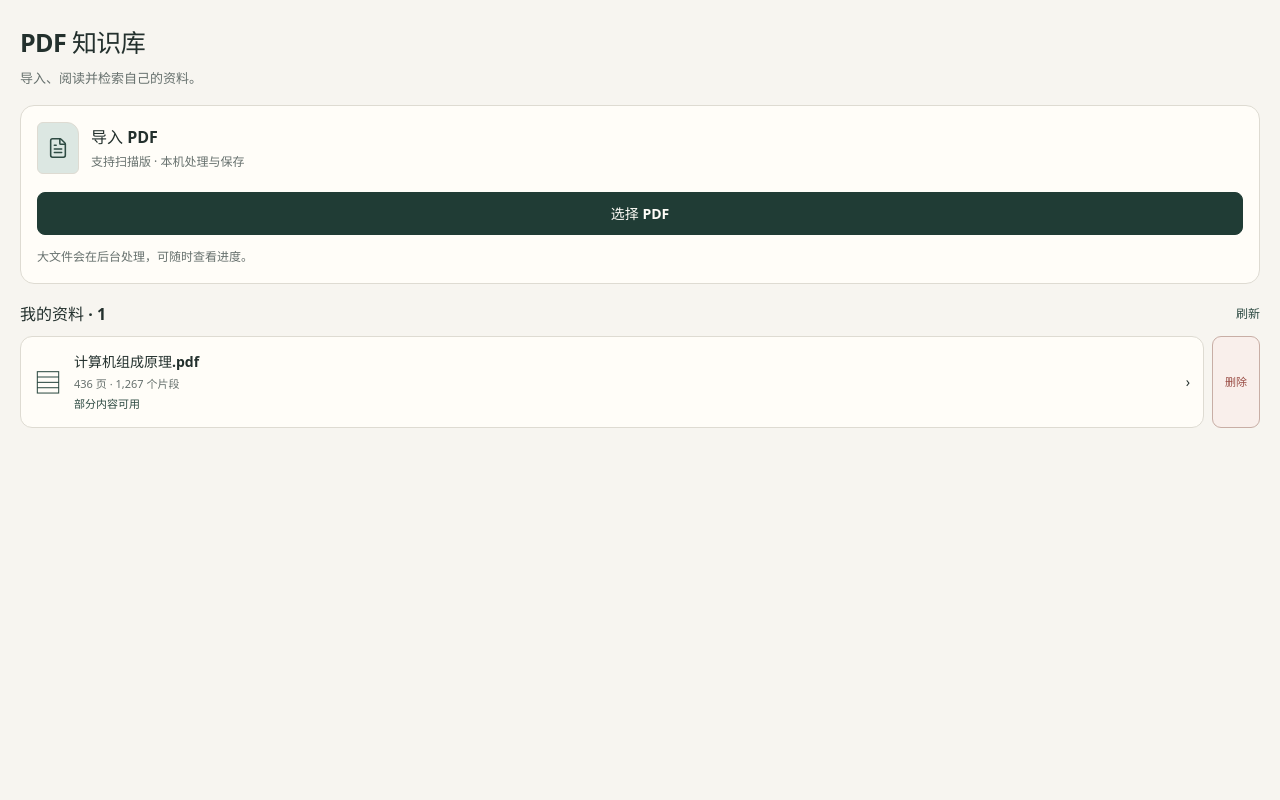
Test: discards a late search response after the chapter scope changes
Click the button "▤ 计算机组成原理.pdf 436 页 · 1,267 个片段 部分内容可用 ›". click: [137, 361]
box: [20, 336, 1204, 428]
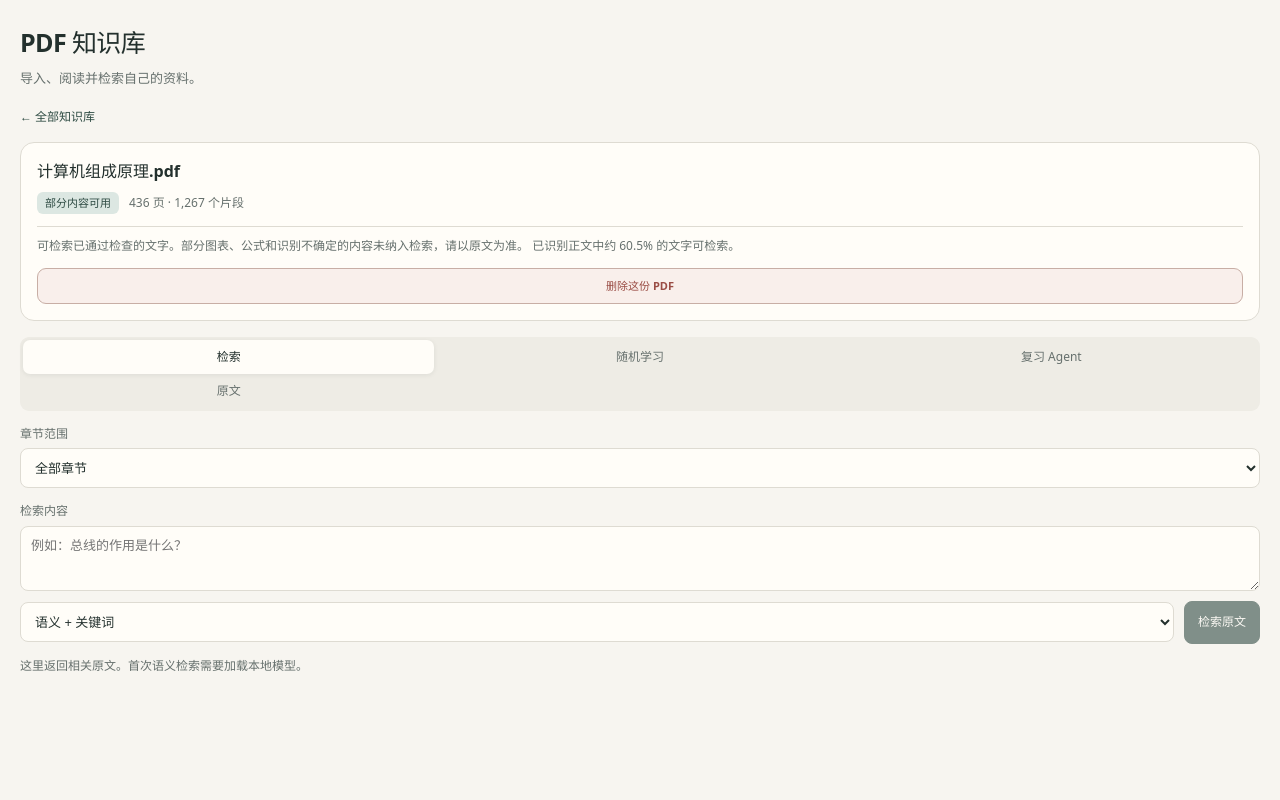
Click the button "检索". click: [229, 357]
box: [23, 340, 434, 374]
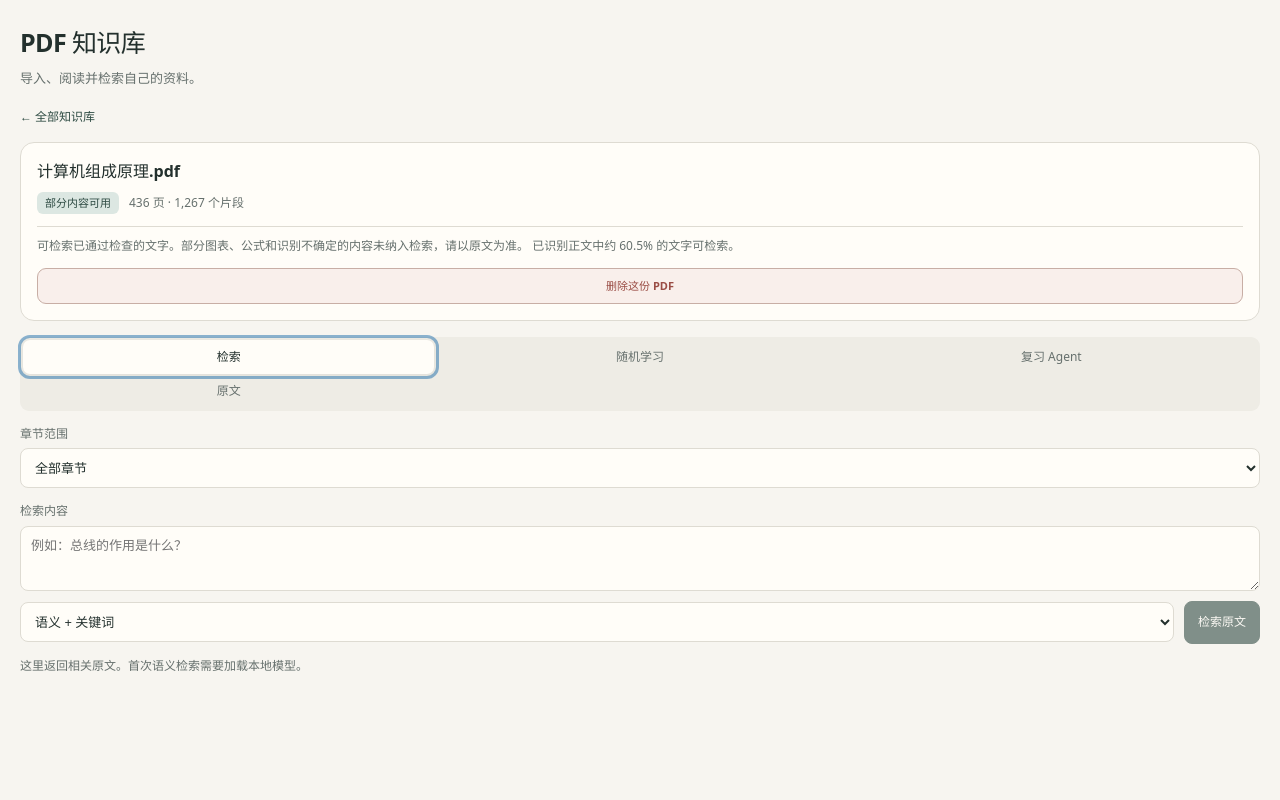
Type "总线" into the text box labelled "检索内容". click: [640, 558]
box: [20, 526, 1260, 591]
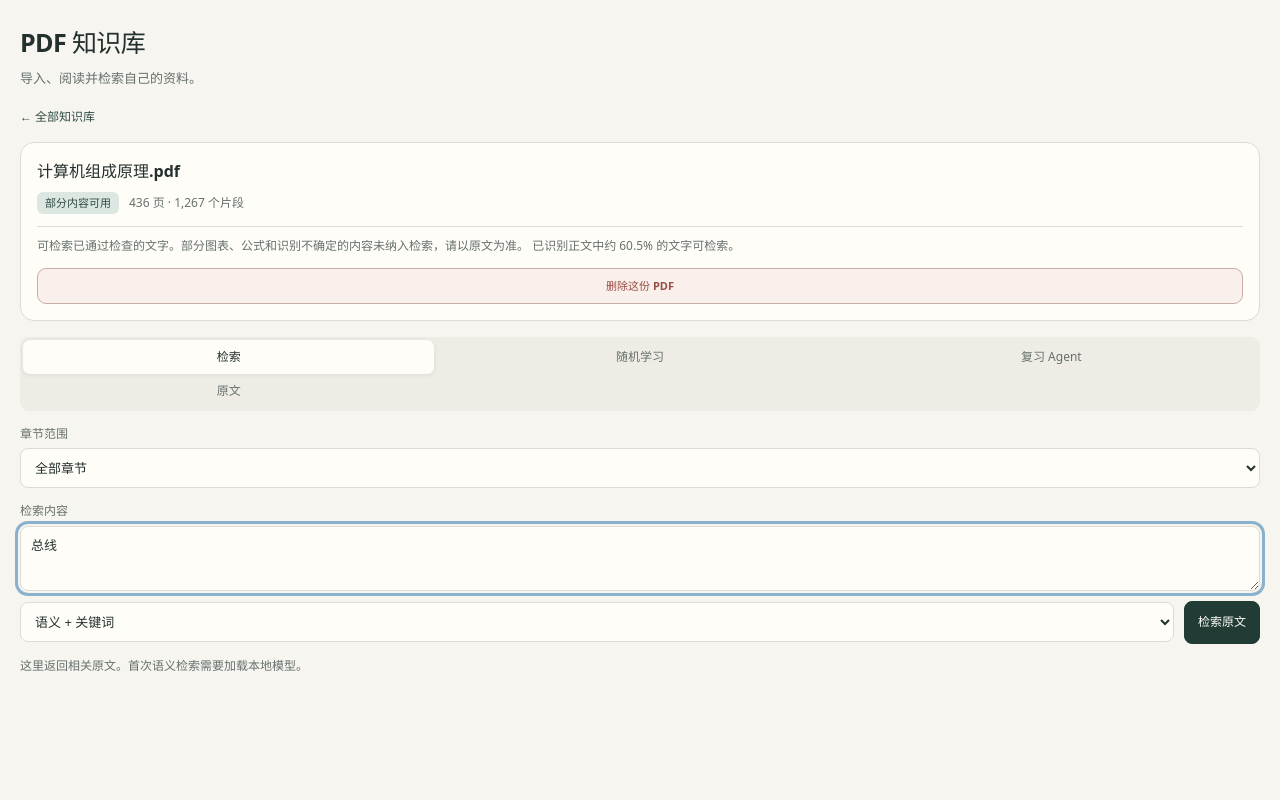
Click the button "检索原文". click: [1222, 622]
box: [1184, 601, 1260, 644]
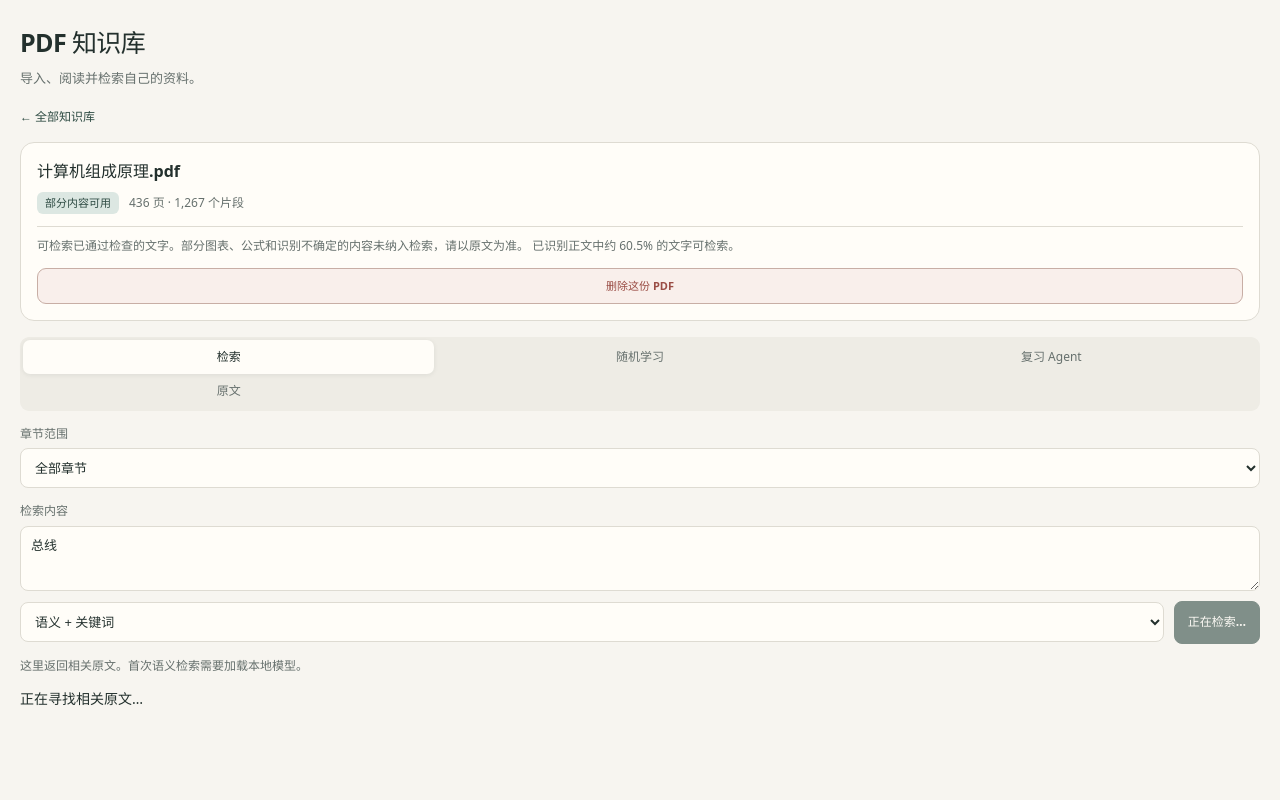
Select "第三章 系统总线" in the dropdown labelled "章节范围". click: [640, 468]
box: [20, 448, 1260, 488]
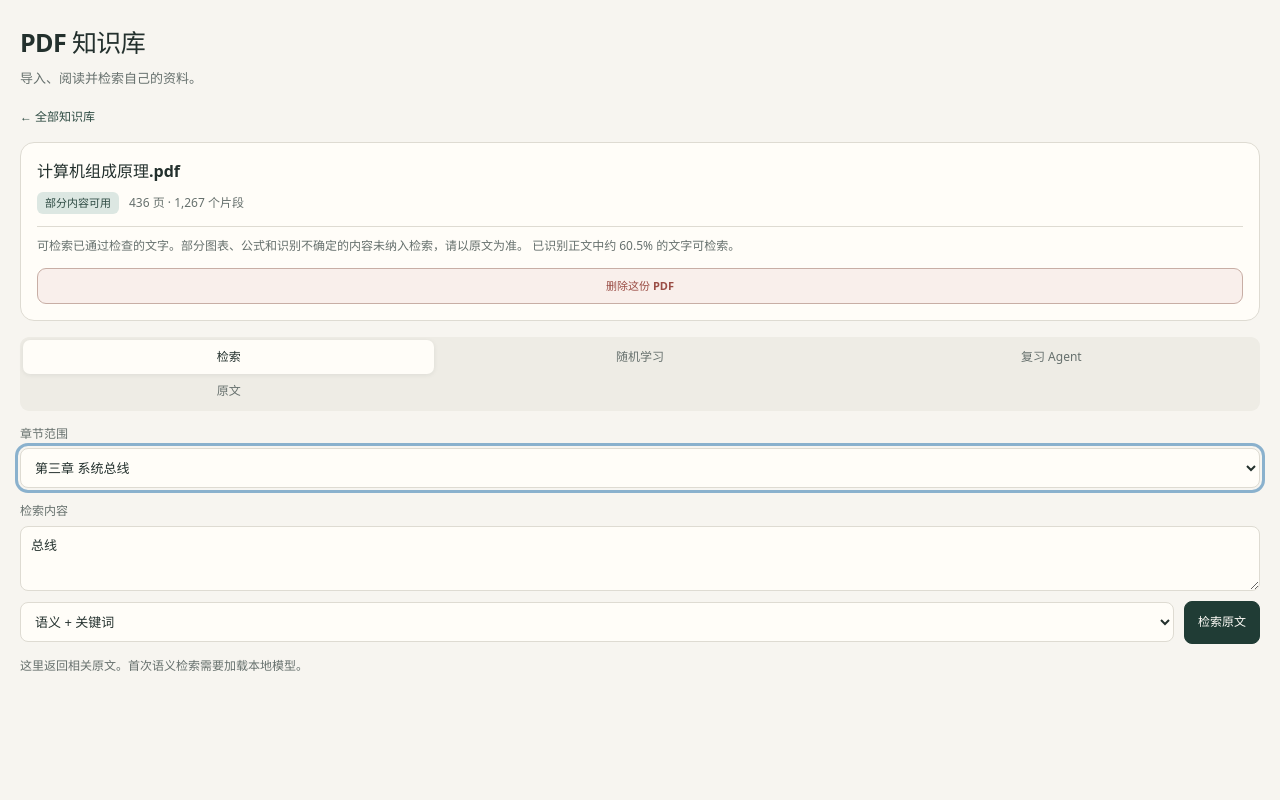
Result: the button "检索原文" is enabled at [1184, 601, 1260, 644]
